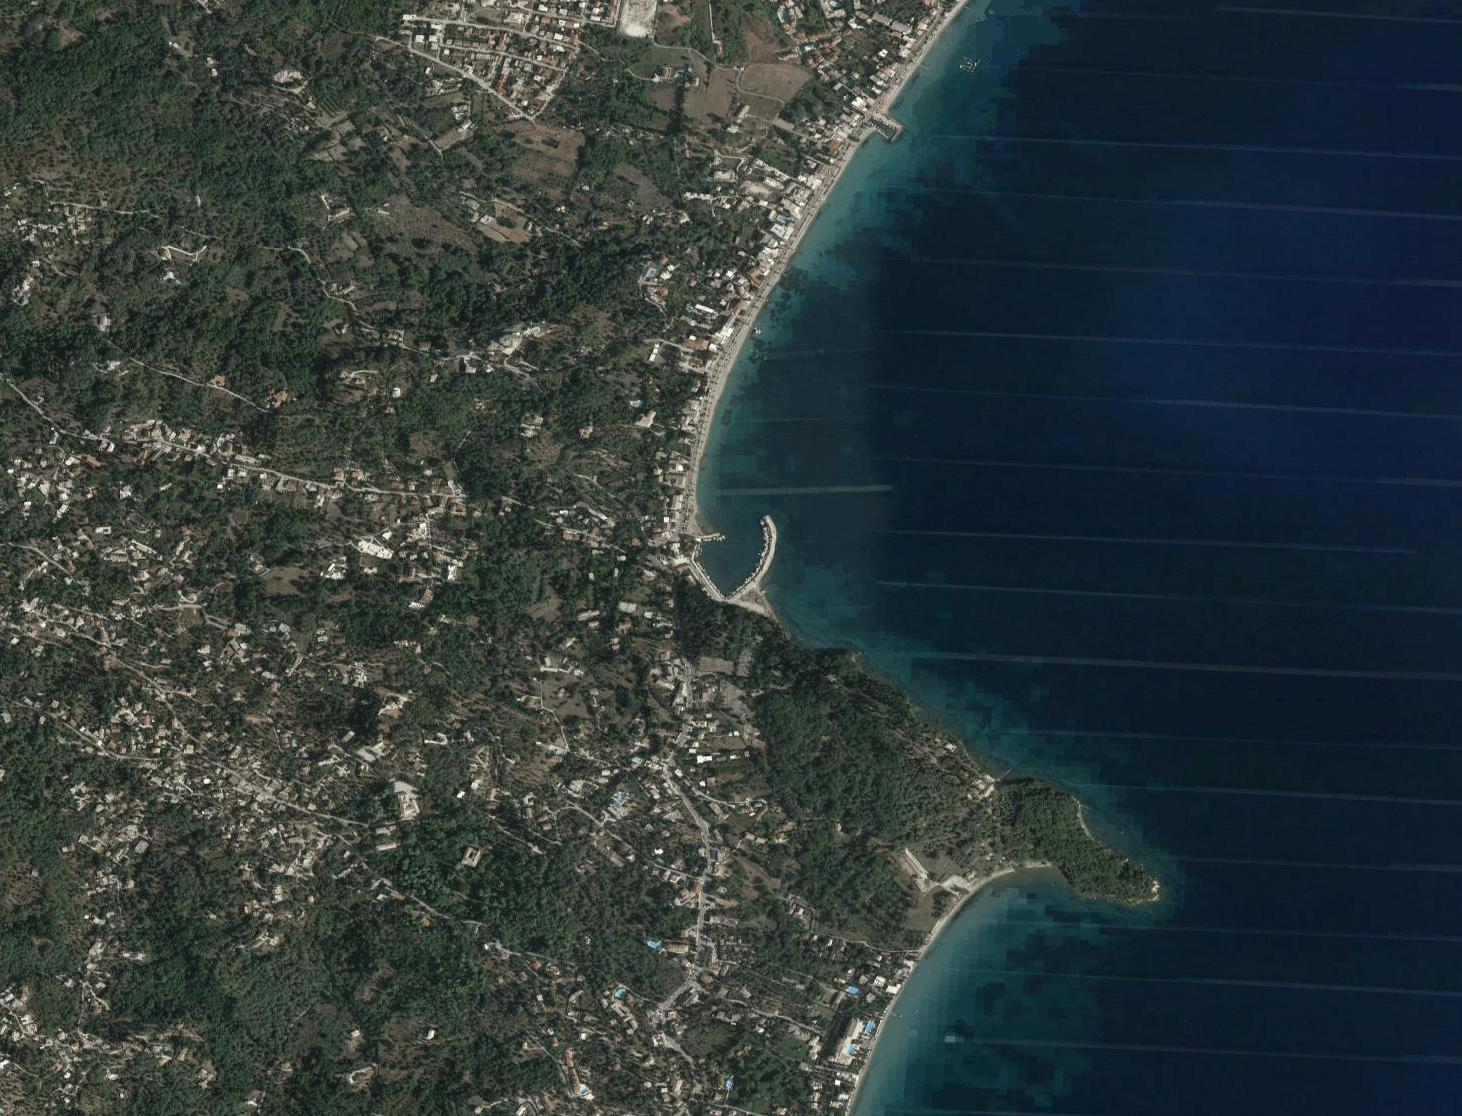harbor: (673, 494, 791, 617)
